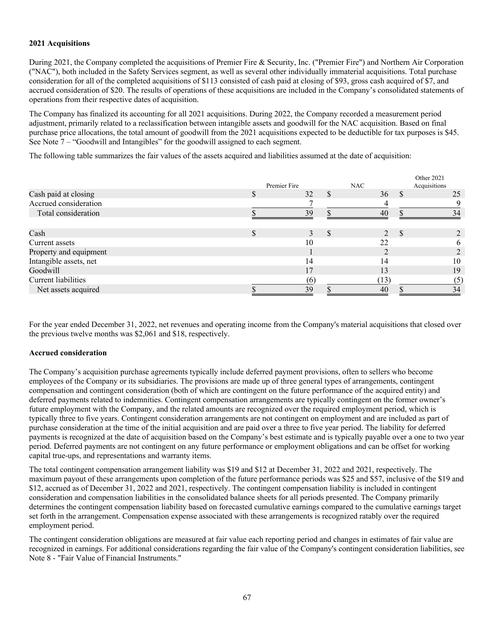box: (26, 175, 469, 300)
